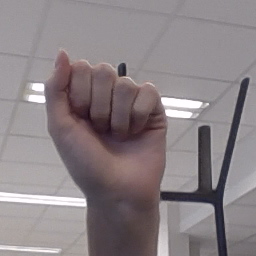A: (42, 46, 170, 189)
